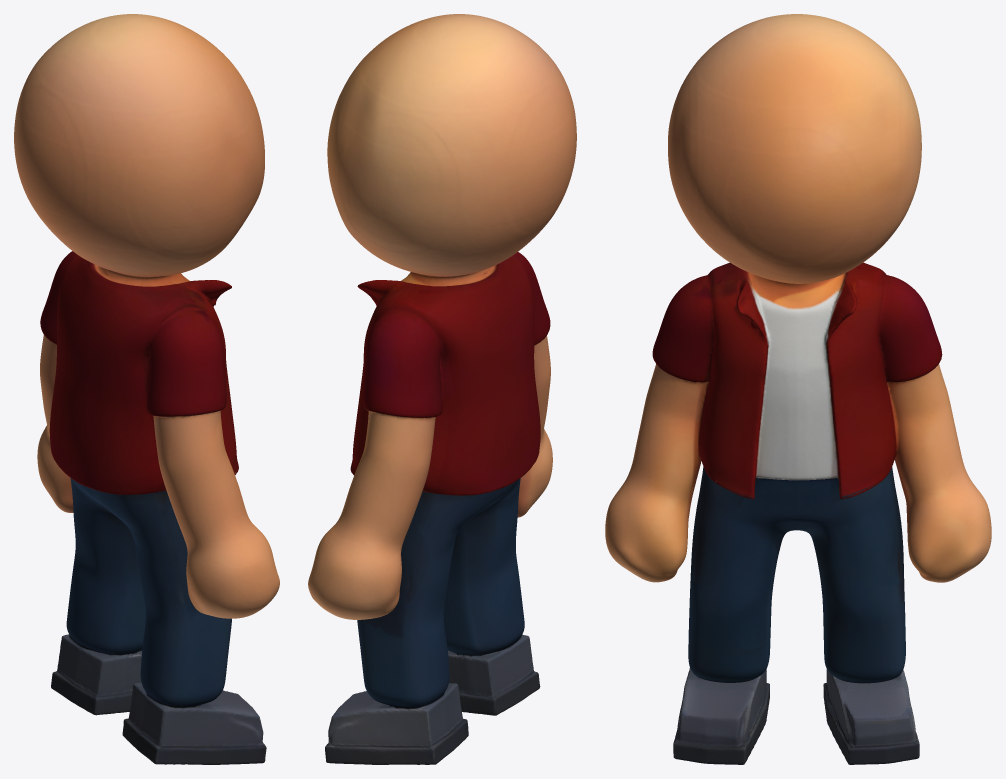
File: tripo_convert_67c7a38d-8336-44dc-a7d5-0f36a4ad22cd.fbx
The picture shows the model from 3 angles, left to right: view 1: azimuth 30°, elevation 25°; view 2: azimuth 150°, elevation 25°; view 3: azimuth 270°, elevation 25°; orthographic projection.
Parts seen in each view (by area): view 1: tripo_node_67c7a38d; view 2: tripo_node_67c7a38d; view 3: tripo_node_67c7a38d.
Part boxes in pixels (box(x1,y1,x2,y2)): tripo_node_67c7a38d: box(14, 14, 279, 764); tripo_node_67c7a38d: box(308, 14, 576, 764); tripo_node_67c7a38d: box(605, 14, 991, 764).
Size of the model in its own units: 0.3215 by 1 by 0.4977.
1 material, 1 textured.
